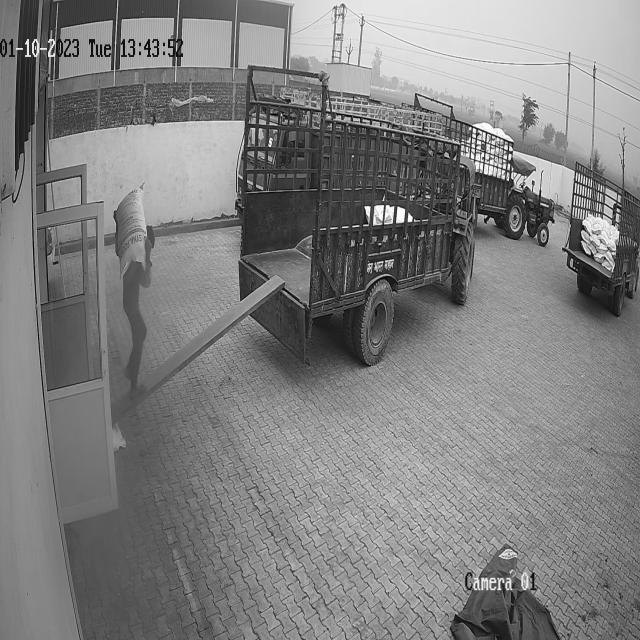sack: (115, 183, 147, 277)
